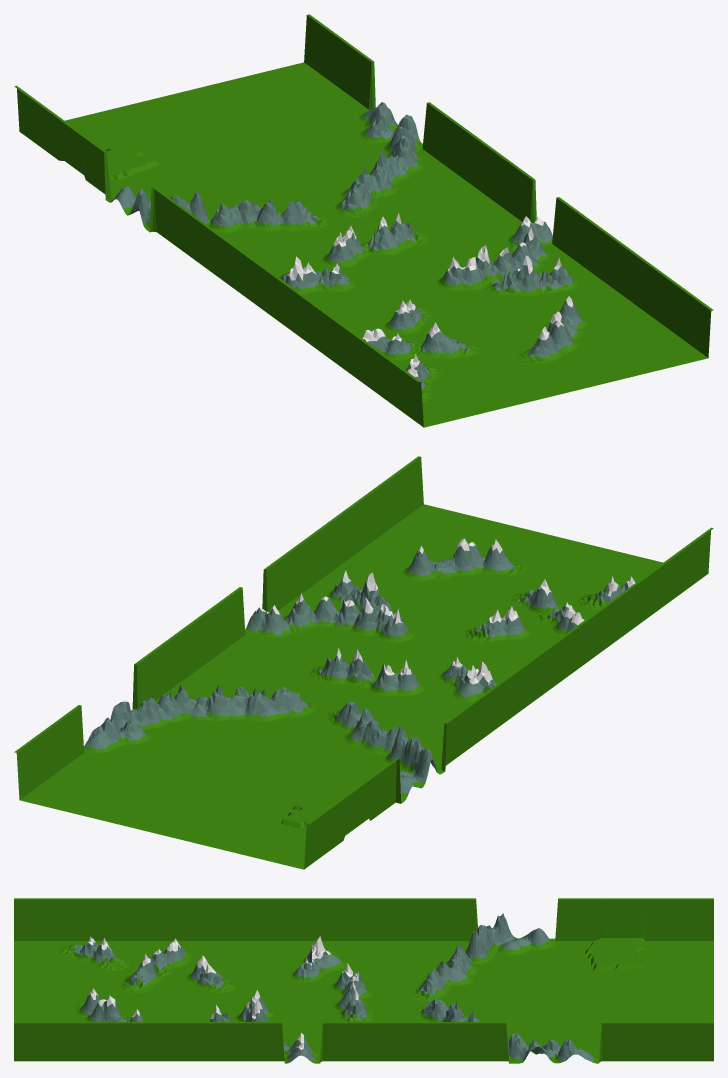
File: background_a.fbx
The picture shows the model from 3 angles, top to bottom: view 1: azimuth 30°, elevation 25°; view 2: azimuth 150°, elevation 25°; view 3: azimuth 270°, elevation 25°; orthographic projection. The views are drawn at different scales.
Parts seen in each view (by area): view 1: Plane; view 2: Plane; view 3: Plane.
Part boxes in pixels (left/top/right/bottom): Plane: left=14, top=14, right=713, bottom=427; Plane: left=14, top=456, right=713, bottom=869; Plane: left=14, top=898, right=713, bottom=1063.
Size of the model in its own units: 23683 by 3577 by 56137.
